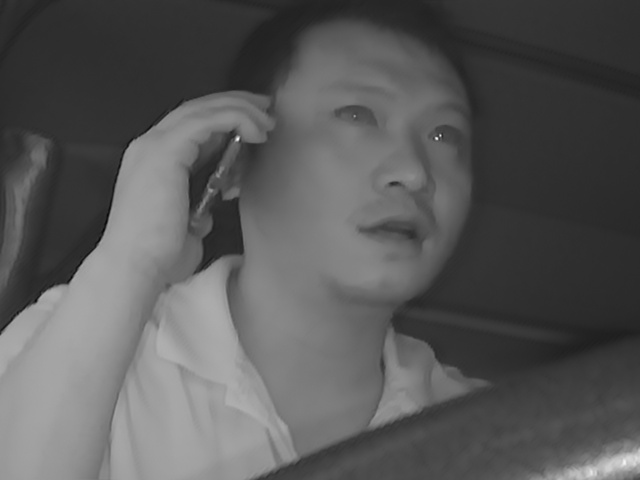hand: (109, 89, 248, 281)
